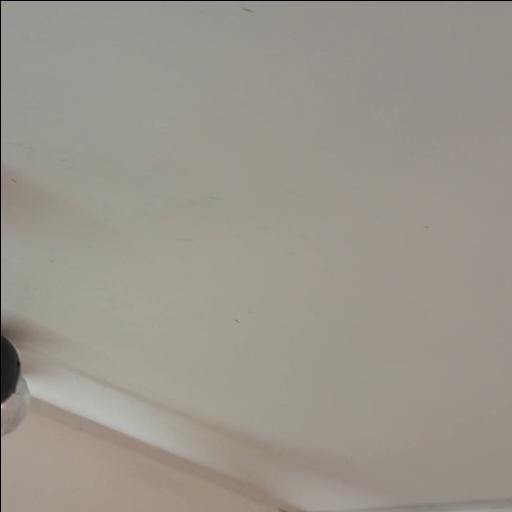alive: (0, 370, 31, 438)
dead: (0, 334, 20, 404)
